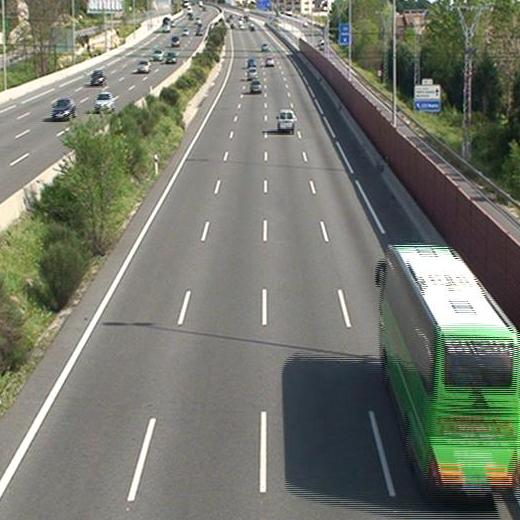bus: (376, 245, 520, 494)
car: (250, 79, 261, 93), (247, 67, 258, 79), (265, 56, 274, 66)
van: (277, 109, 296, 133)
